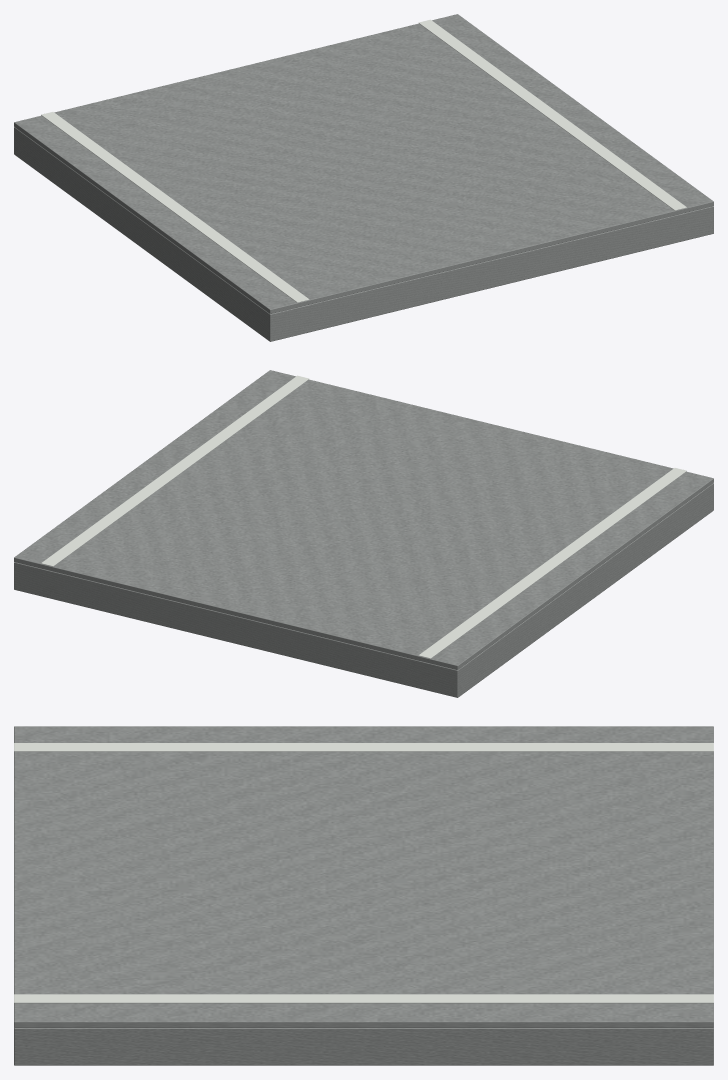
The model's file is liminal-spaces-kit-parking-line-tile-f149706c__25315.glb.
3 renders of one model, top to bottom at view 1: azimuth 30°, elevation 25°; view 2: azimuth 150°, elevation 25°; view 3: azimuth 270°, elevation 25°, orthographic. The views are drawn at different scales.
Parts seen in each view (by area): view 1: parking-line-tile; view 2: parking-line-tile; view 3: parking-line-tile.
Part boxes in pixels (<box>): parking-line-tile: <box>14,14,713,341</box>; parking-line-tile: <box>14,370,713,697</box>; parking-line-tile: <box>14,726,713,1065</box>.
Bounding box in the file's own units: 2 × 0.1439 × 2.
Materials: 2 (1 with a texture image).
